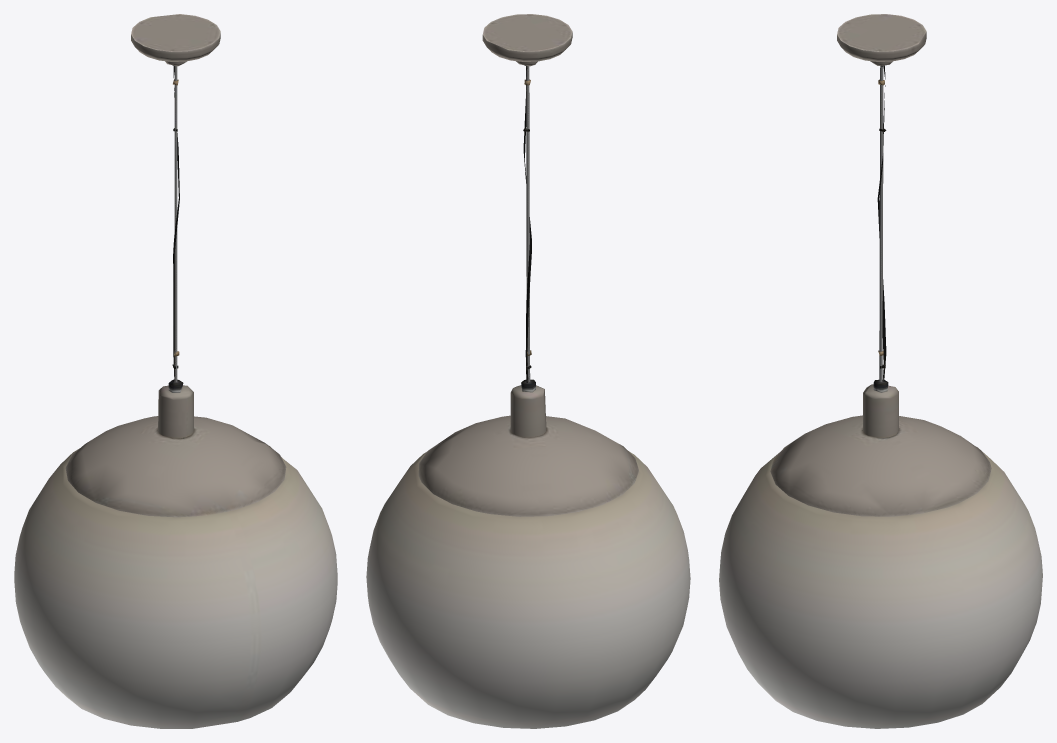
The model's file is pendant_lamp.glb.
3 views of the same model, side by side, from view 1: azimuth 30°, elevation 25°; view 2: azimuth 150°, elevation 25°; view 3: azimuth 270°, elevation 25° (orthographic).
Parts seen in each view (by area): view 1: modern_ceiling_lamp_01; view 2: modern_ceiling_lamp_01; view 3: modern_ceiling_lamp_01.
Part boxes in pixels (x1,y1,x2,y2): modern_ceiling_lamp_01: [14, 14, 337, 728]; modern_ceiling_lamp_01: [366, 14, 690, 728]; modern_ceiling_lamp_01: [719, 14, 1042, 728].
Bounding box in the file's own units: 0.4316 × 0.9512 × 0.4317.
2 materials, 2 textured.
